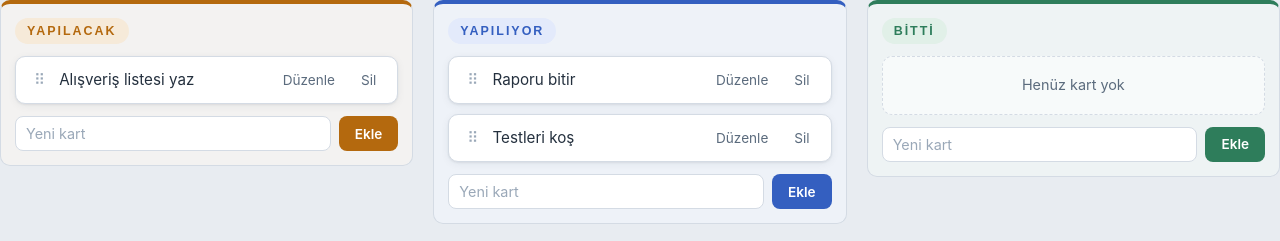
Test case: kart başlığı düzenlenince güncellenir ve API'ye kaydedilir
Click the button "Düzenle" next to "Alışveriş listesi yaz" at [309, 80], box [274,67,344,93]
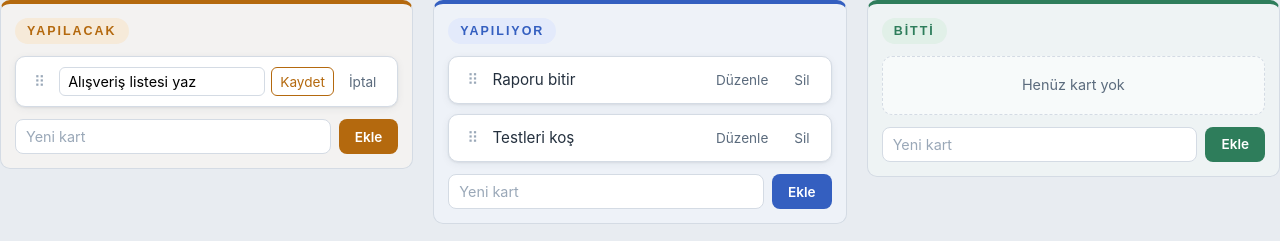
Replace the text in the field named "Kart başlığını düzenle" with "Alışveriş listesini güncelle" at [162, 82], box [59,67,265,96]
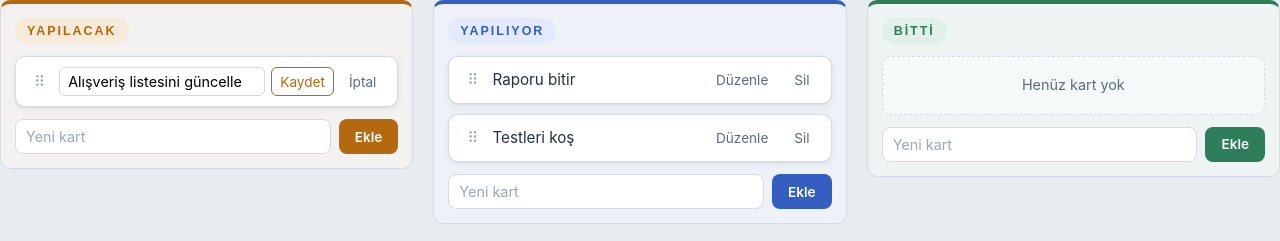
Click the button "Kaydet" at [303, 82], box [271,67,334,96]
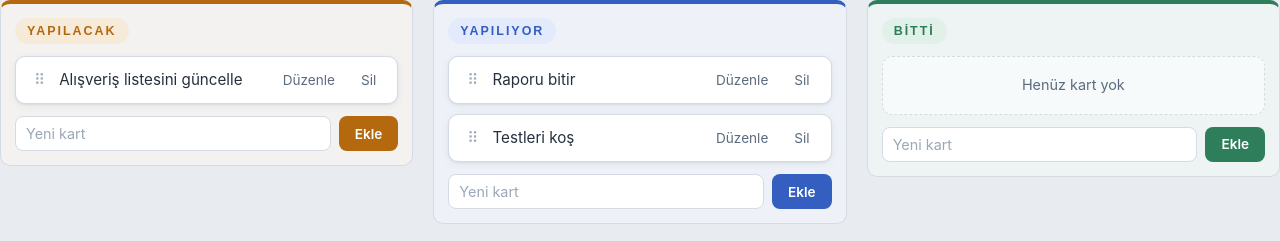
Expected: the text "Alışveriş listesi yaz" is not shown
Expected: the text "Alışveriş listesini güncelle" is shown, [59,69,266,91]
